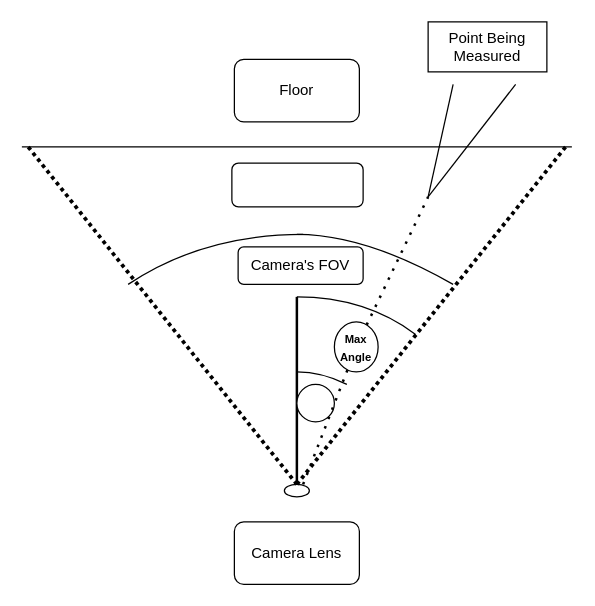
This 595x606 diagram has some shape labels left out. The shapes that lost their labels are listed below. From the top down, each one's centre as x and y in pixels, then its label:
pixel 297 184: Point Cloud Area
pixel 315 402: Angle
